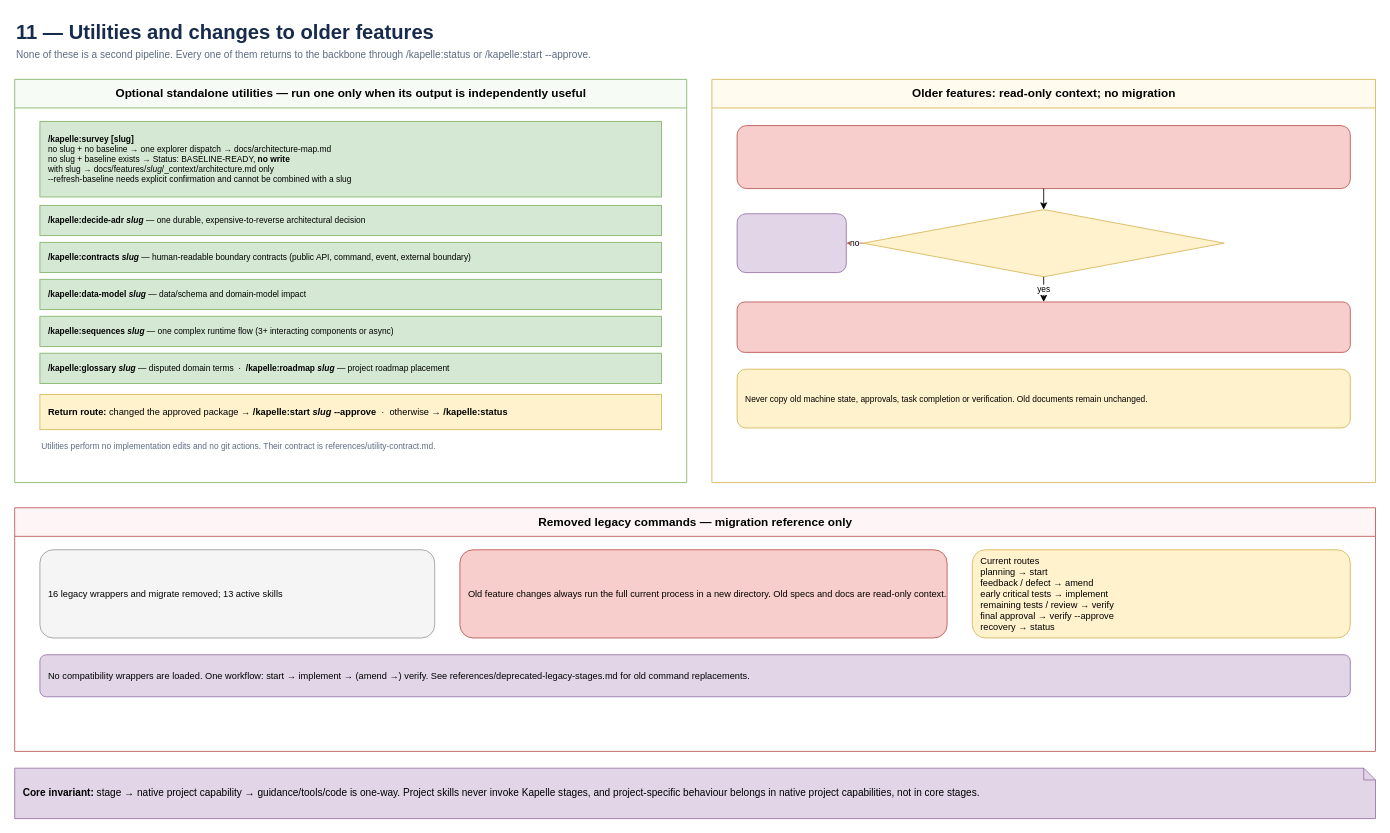
Some shapes in this 1390 by 833 pixel diagram are drawn without their labels. The shapes that lost their labels are listed below. From the top down, each one's centre as x and y in pixels, then its label:
point (1043, 157): Read old specifications and documents to understand existing behavior
point (791, 243): Implement the change, verify it, and obtain final approval
point (1043, 243): Create a new feature directory with a new slug
point (1043, 326): Run start and obtain fresh architecture guidance and slice approval
